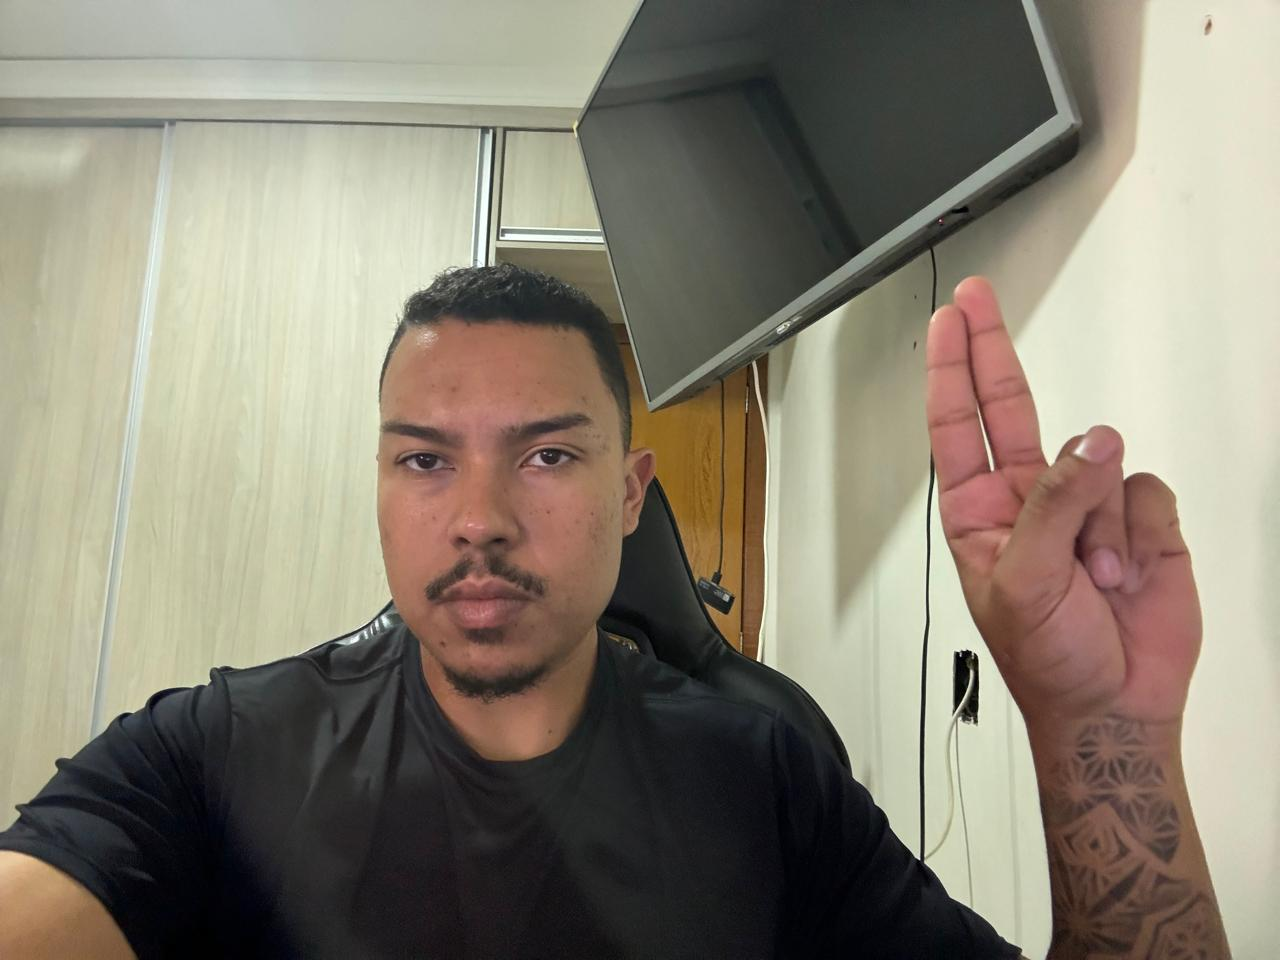u: (913, 266, 1224, 724)
